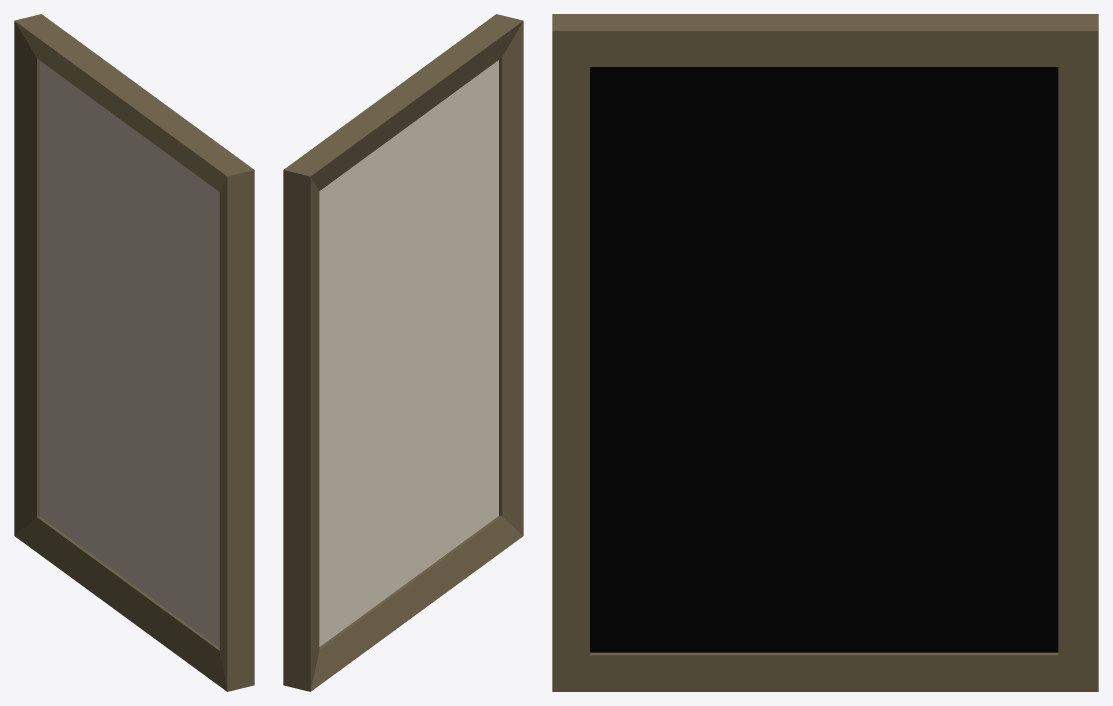
File: paint.fbx
The picture shows the model from 3 angles, left to right: view 1: azimuth 30°, elevation 25°; view 2: azimuth 150°, elevation 25°; view 3: azimuth 270°, elevation 25°; orthographic projection. The views are drawn at different scales.
Visible parts, largest first — view 1: polySurface3; view 2: polySurface3; view 3: polySurface3.
Part boxes in pixels (x1=…): polySurface3: x1=14, y1=14, x2=254, y2=691; polySurface3: x1=283, y1=14, x2=523, y2=691; polySurface3: x1=552, y1=14, x2=1098, y2=691.
Bounding box in the file's own units: 1 × 18.09 × 13.56.
